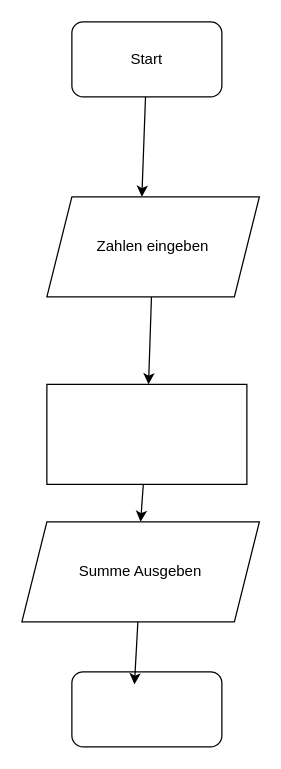
This 281x769 diagram has some shape labels left out. The centre of each missing label's shape, as x and y in pixels:
Stop: [146,709]
Summe bilden: [146,433]
